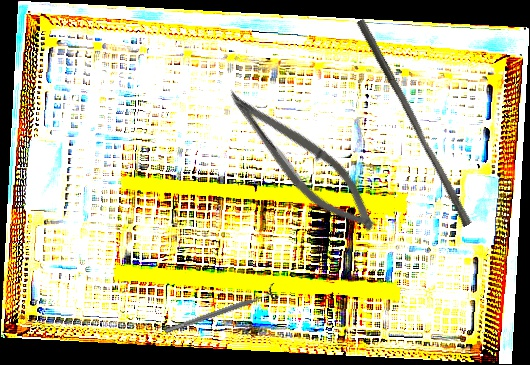Fixation Ring: (161, 282, 281, 340)
Micro Scissor: (208, 79, 392, 244)
Pusher: (347, 18, 480, 228)
